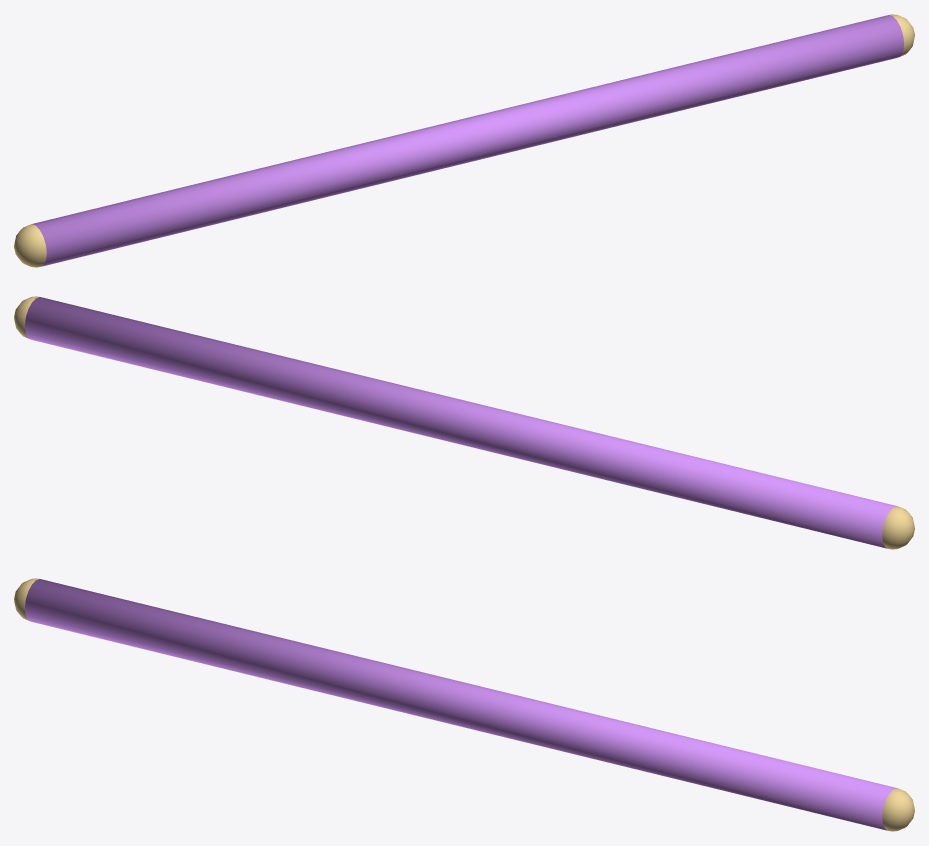
The model's file is beam-Cm9xtMjE.glb.
3 renders of one model, top to bottom at view 1: azimuth 30°, elevation 25°; view 2: azimuth 150°, elevation 25°; view 3: azimuth 330°, elevation 25°, orthographic.
Visible parts, largest first — view 1: R3D_beam_Body_0, R3D_beam_Tip_0; view 2: R3D_beam_Body_0, R3D_beam_Tip_0; view 3: R3D_beam_Body_0, R3D_beam_Tip_1.
Boxes of the visible parts, x1,y1,x2,y2 form: R3D_beam_Body_0: (32, 15, 903, 266); R3D_beam_Tip_0: (14, 224, 46, 267); R3D_beam_Body_0: (25, 297, 896, 548); R3D_beam_Tip_0: (882, 506, 914, 549); R3D_beam_Body_0: (25, 579, 896, 830); R3D_beam_Tip_1: (882, 788, 914, 831).
Size of the model in its own units: 5.64 by 0.24 by 0.24.
